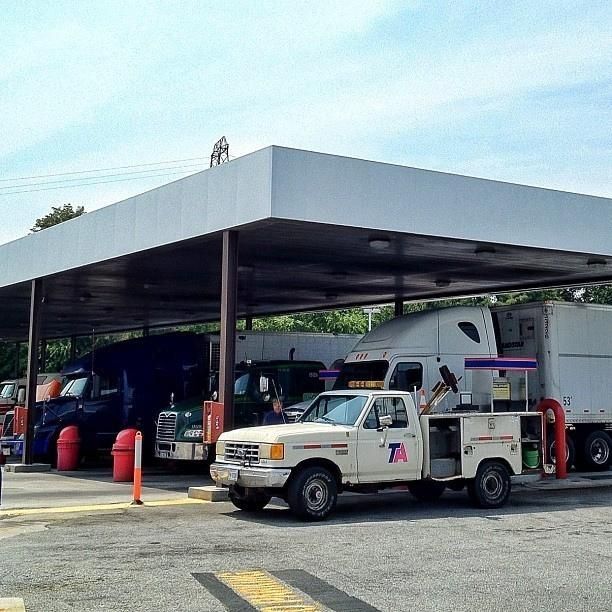car: (1, 378, 26, 424)
truck: (208, 353, 544, 520), (329, 300, 612, 465), (33, 332, 203, 466), (152, 355, 324, 456), (158, 330, 362, 411)
